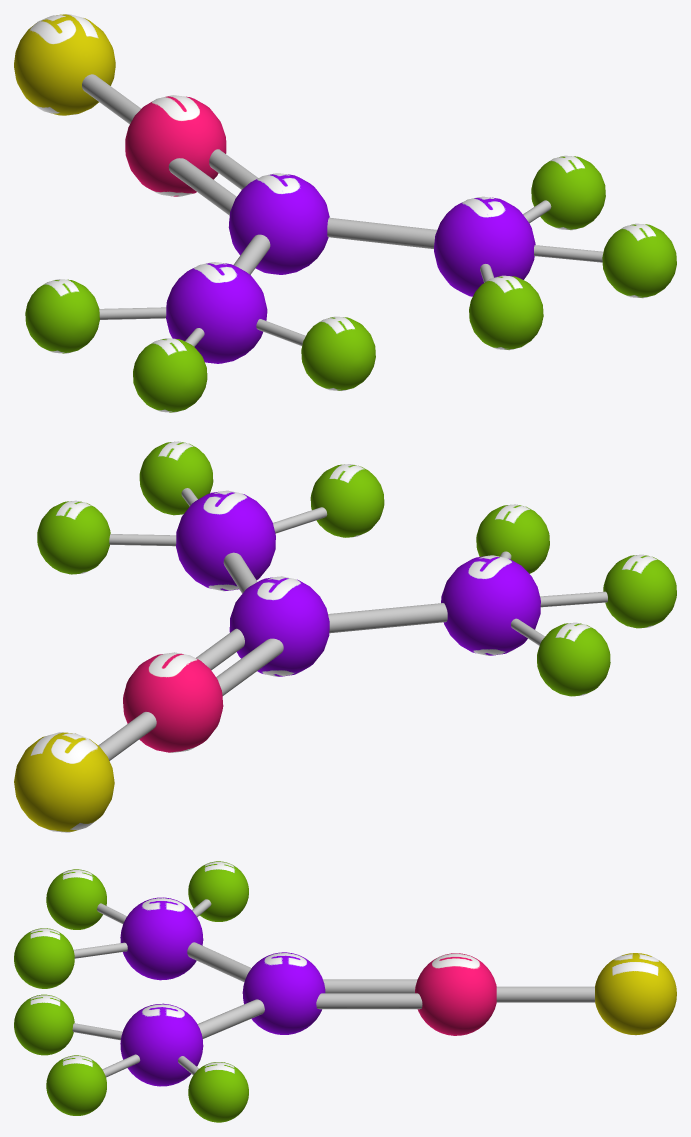
The model's file is SM_Molecule_7.fbx.
3 views of the same model, one above another, from view 1: azimuth 30°, elevation 25°; view 2: azimuth 150°, elevation 25°; view 3: azimuth 270°, elevation 25° (orthographic). The views are drawn at different scales.
Visible parts, largest first — view 1: Chlorine, Carbon6, Carbon, Carbon7, Oxygen, Hydrogen16, Hydrogen14, Hydrogen19, Hydrogen15, Hydrogen17, Hydrogen18, bond36 (+7 smaller); view 2: Chlorine, Carbon6, Oxygen, Carbon7, Carbon, Hydrogen14, Hydrogen18, Hydrogen15, Hydrogen17, Hydrogen19, Hydrogen16, bond31 (+7 smaller); view 3: Chlorine, Oxygen, Carbon6, Carbon7, Carbon, Hydrogen16, Hydrogen18, Hydrogen19, Hydrogen17, Hydrogen15, Hydrogen14, bond30 (+6 smaller).
Part boxes in pixels (x1,y1,x2,y2): Chlorine: (14,14,115,115); Carbon6: (166,262,267,363); Carbon: (228,173,329,274); Carbon7: (434,196,535,296); Oxygen: (125,95,226,196); Hydrogen16: (301,316,375,390); Hydrogen14: (25,279,99,353); Hydrogen19: (602,223,676,298); Hydrogen15: (133,338,207,412); Hydrogen17: (469,275,543,350); Hydrogen18: (531,155,605,230); bond36: (327,217,437,248); Chlorine: (14,732,114,832); Carbon6: (441,555,540,655); Oxygen: (123,652,223,752); Carbon7: (176,490,275,591); Carbon: (229,576,329,676); Hydrogen14: (537,622,610,696); Hydrogen18: (37,500,110,574); Hydrogen15: (603,554,676,628); Hydrogen17: (310,464,384,537); Hydrogen19: (139,441,213,515); Hydrogen16: (476,504,549,573); bond31: (328,603,447,633); Chlorine: (595,953,676,1035); Oxygen: (415,953,496,1035); Carbon6: (120,897,203,980); Carbon7: (120,1003,203,1086); Carbon: (242,952,325,1034); Hydrogen16: (14,928,74,988); Hydrogen18: (188,1062,248,1122); Hydrogen19: (46,1055,106,1115); Hydrogen17: (14,994,74,1055); Hydrogen15: (46,869,106,929); Hydrogen14: (188,861,248,921); bond30: (316,993,422,1009).
Size of the model in its own units: 357 by 55.24 by 442.
